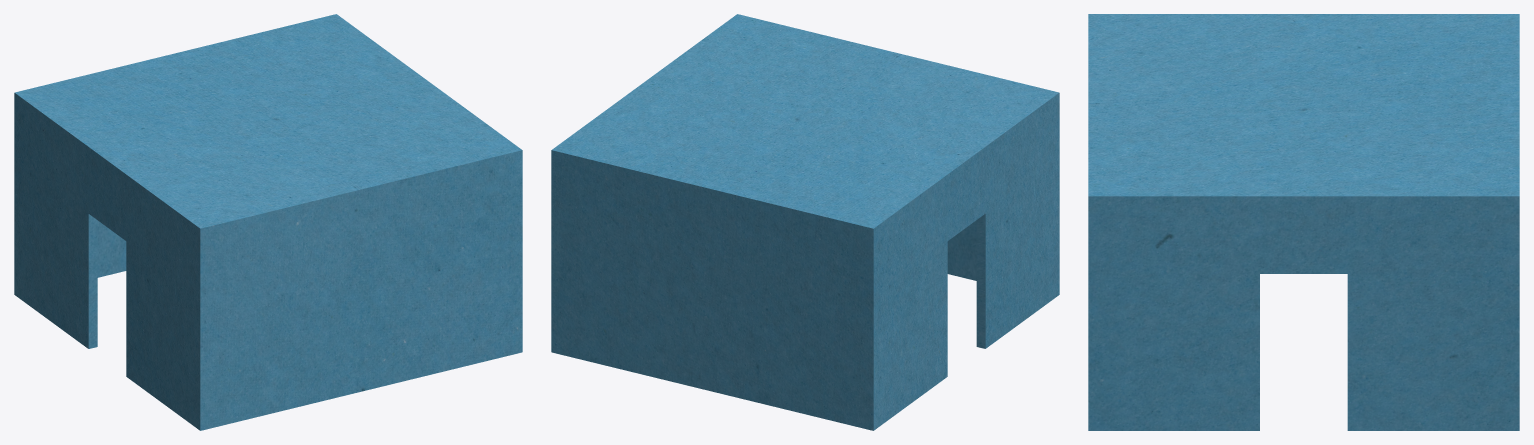
The model's file is casa.obj.
3 views of the same model, side by side, from view 1: azimuth 30°, elevation 25°; view 2: azimuth 150°, elevation 25°; view 3: azimuth 270°, elevation 25° (orthographic). The views are drawn at different scales.
Visible parts, largest first — view 1: casa; view 2: casa; view 3: casa.
Part boxes in pixels (x1,y1,x2,y2): casa: (14,14,522,430); casa: (551,14,1059,430); casa: (1088,14,1519,430).
Bounding box in the file's own units: 5 × 3 × 5.
